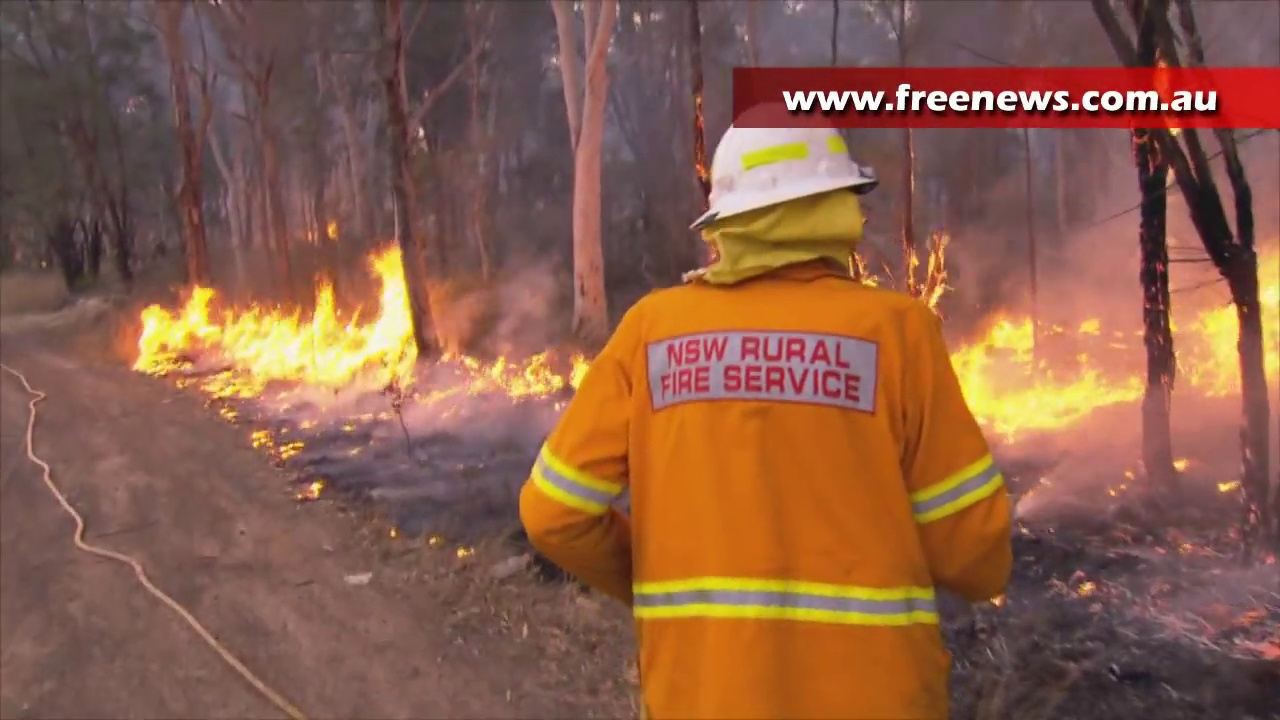fire: (128, 248, 414, 393), (978, 323, 1141, 440), (1184, 305, 1239, 395), (487, 350, 586, 393), (1257, 244, 1280, 396), (926, 243, 949, 297)
